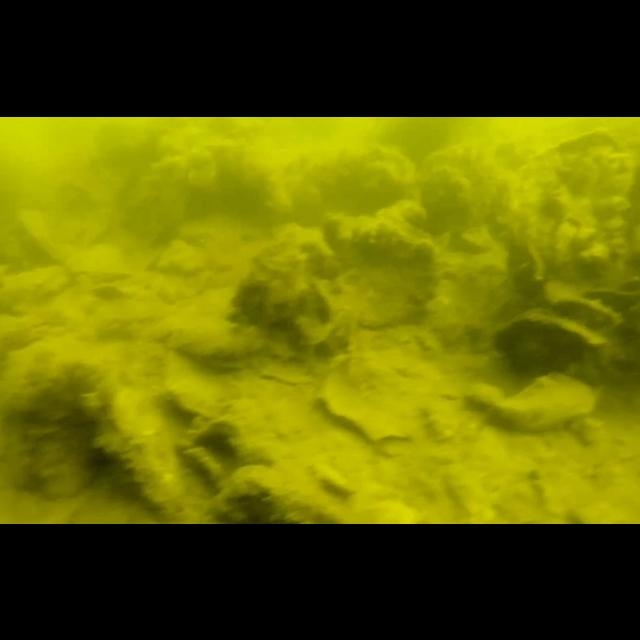Oyster-Closed: (506, 132, 636, 294), (0, 361, 108, 504), (228, 226, 348, 350), (92, 379, 196, 519), (326, 208, 442, 328), (206, 464, 334, 524), (492, 312, 604, 376), (484, 374, 598, 434), (547, 281, 621, 333), (0, 261, 66, 306)
Oyster-Open: (172, 326, 266, 374), (180, 417, 244, 481), (64, 241, 132, 285)
